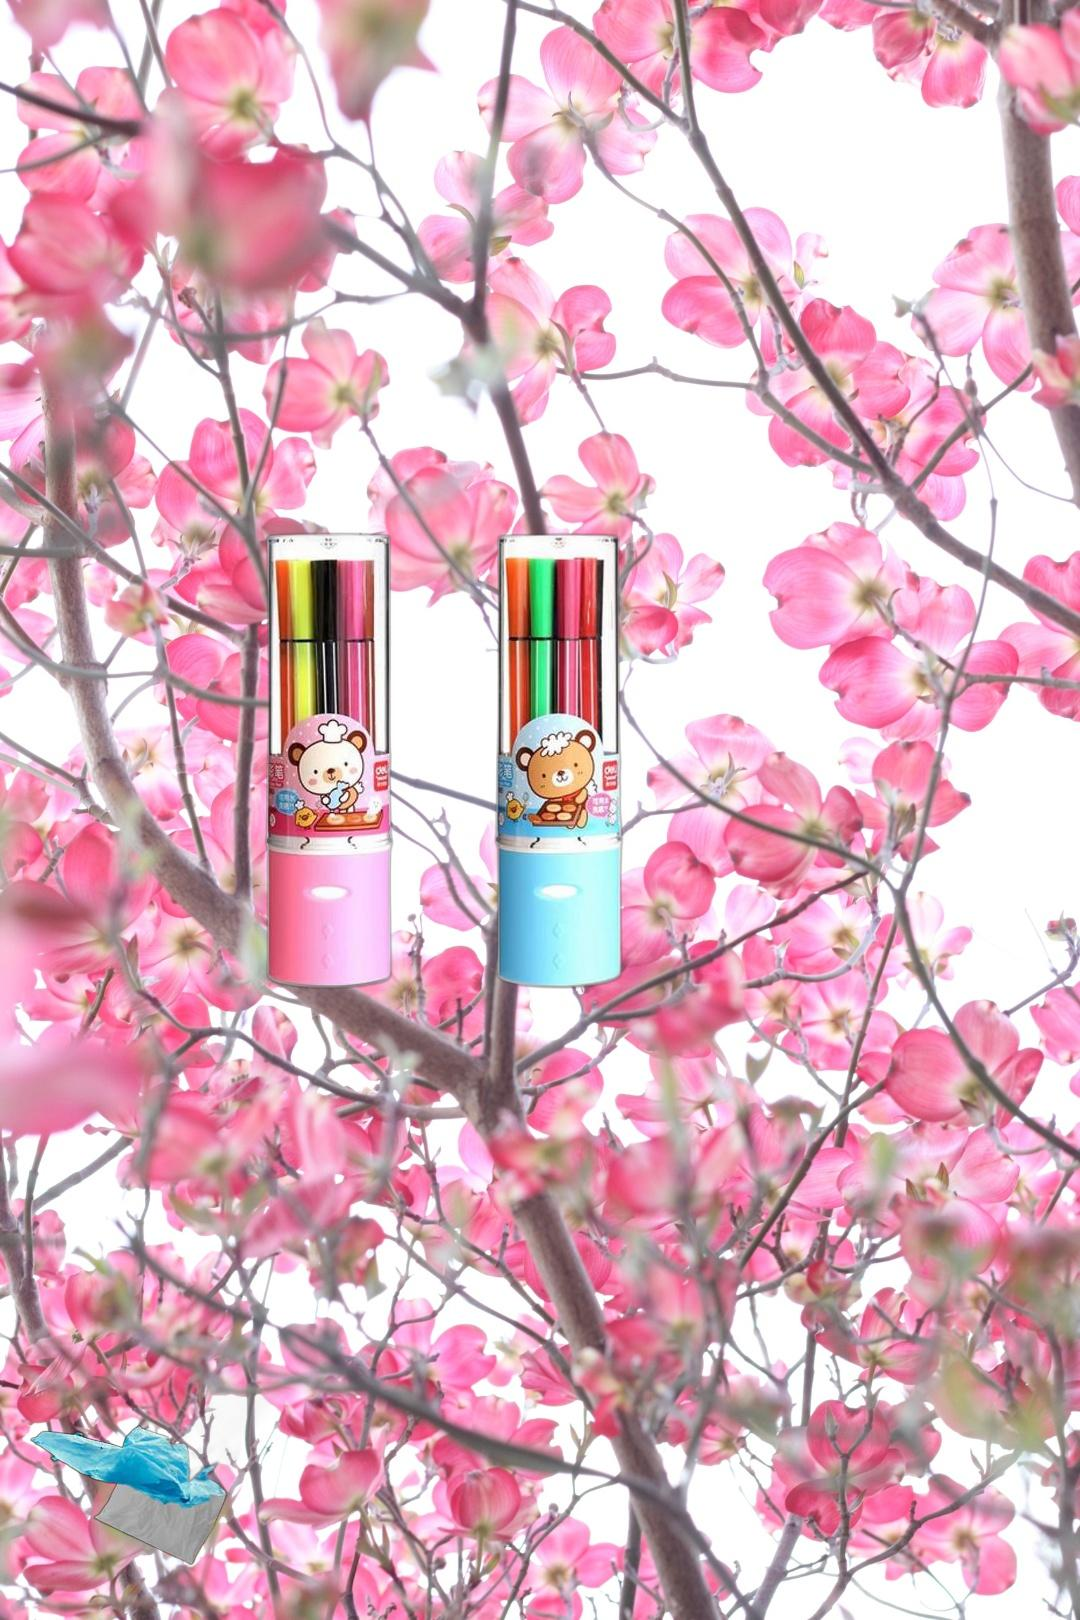penholder: (262, 530, 627, 993)
plastic-bag: (28, 1330, 306, 1568)
